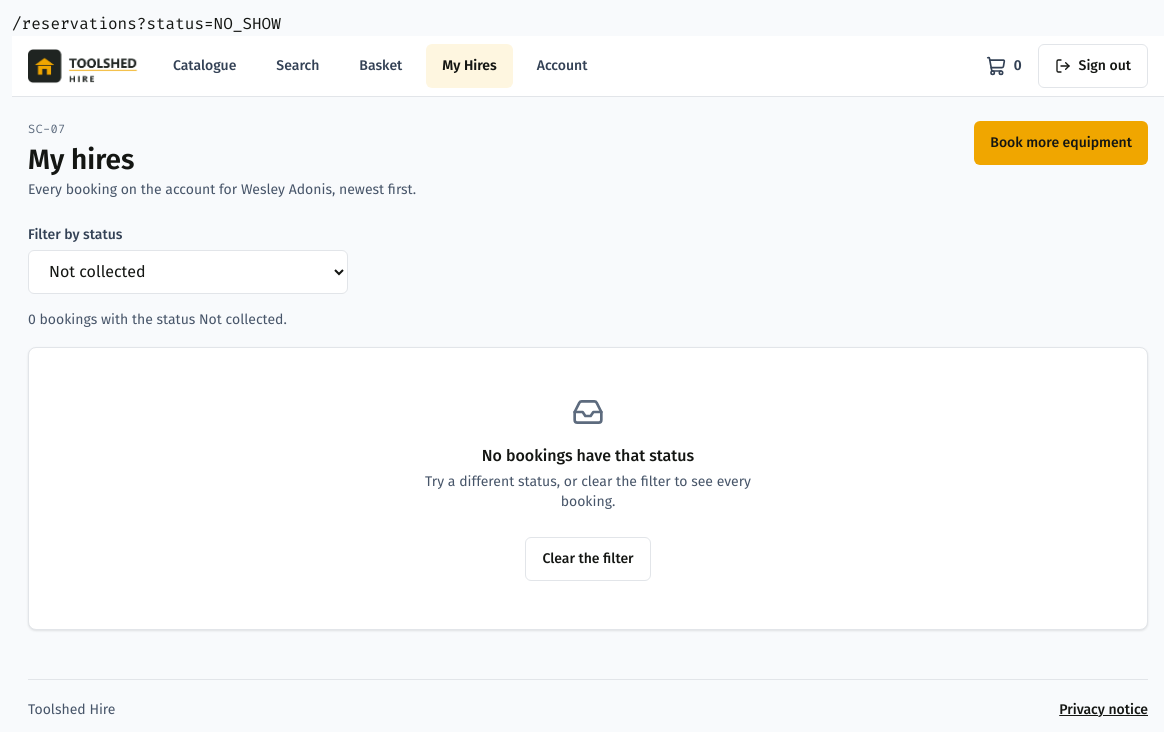
Scenario: the status filter › says so when nothing has that status, and clears the filter on request
Expected: the text "No bookings have that status" is shown, [482,444,694,468]
Expected: the dropdown labelled "Filter by status" shows "Not collected", [28,250,348,294]
Click the button "Clear the filter" at {"x": 588, "y": 559}, box [525,537,651,581]
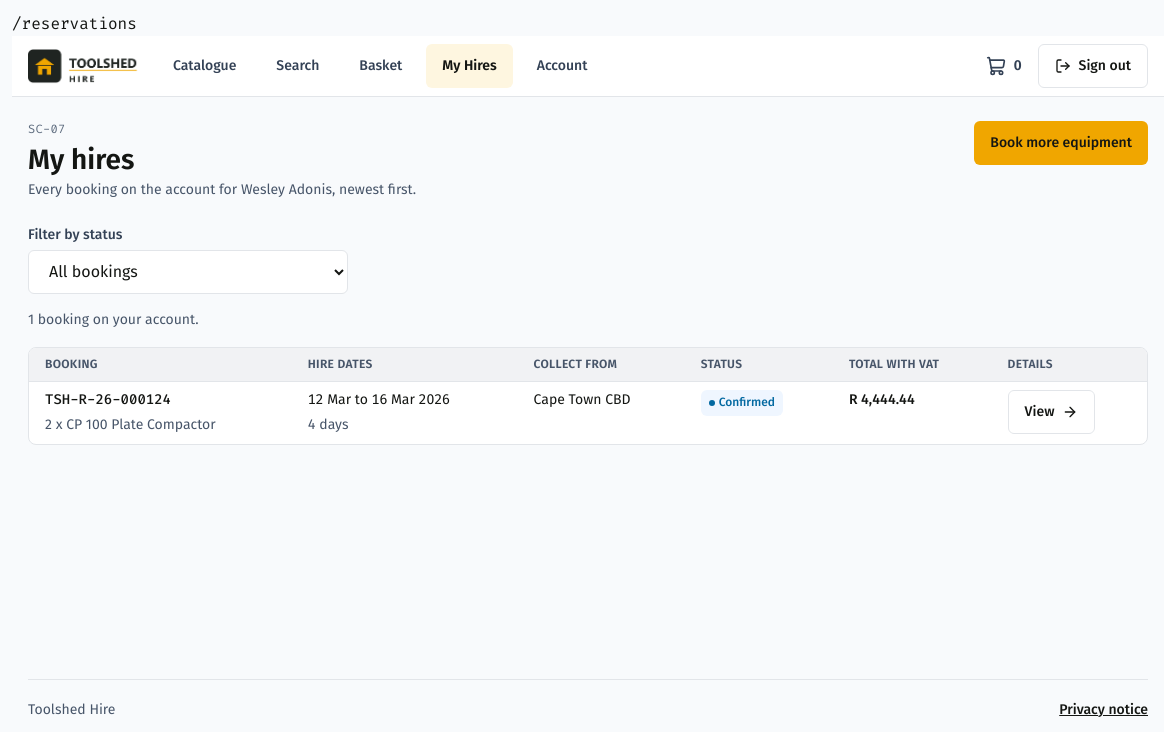
Expected: the text with test id "current-address" reads "/reservations", [12,13,137,34]
Result: the text "TSH-R-26-000124" is shown at [45,390,171,409]
